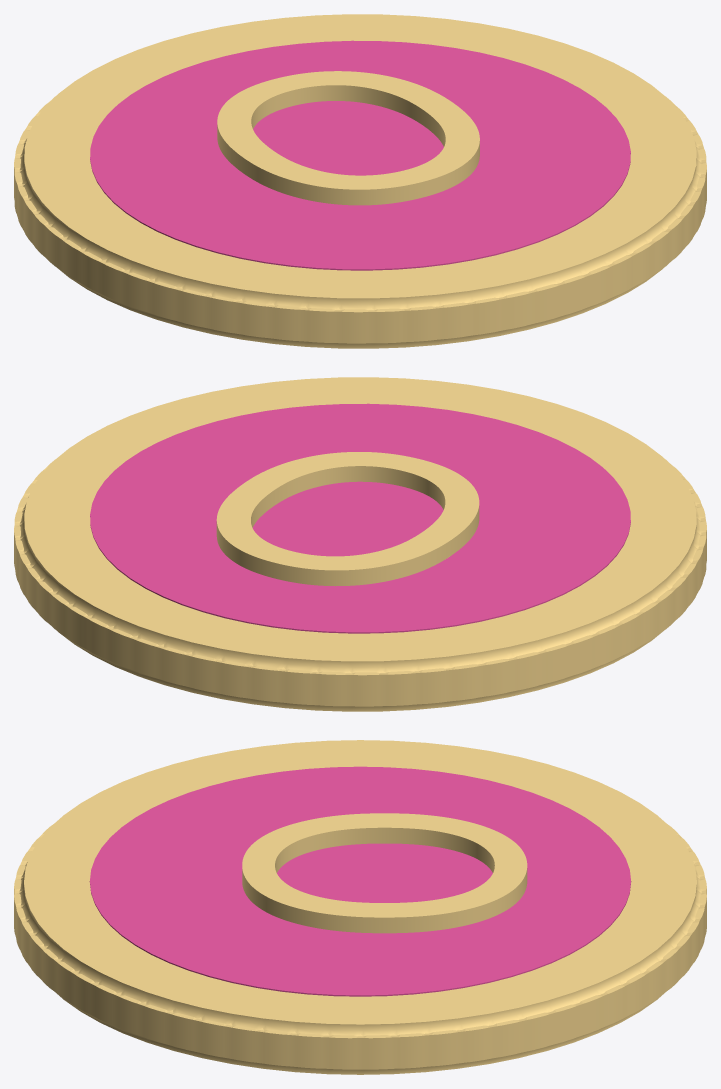
Rendered from coin.glb.
3 renders of one model, top to bottom at view 1: azimuth 30°, elevation 25°; view 2: azimuth 150°, elevation 25°; view 3: azimuth 270°, elevation 25°, orthographic.
Visible parts, largest first — view 1: CoinBody; view 2: CoinBody; view 3: CoinBody.
Boxes of the visible parts, bbox=[...] form: CoinBody: bbox=[14, 14, 706, 348]; CoinBody: bbox=[14, 377, 706, 711]; CoinBody: bbox=[14, 740, 706, 1074].
Bounding box in the file's own units: 2 × 0.268 × 2.
